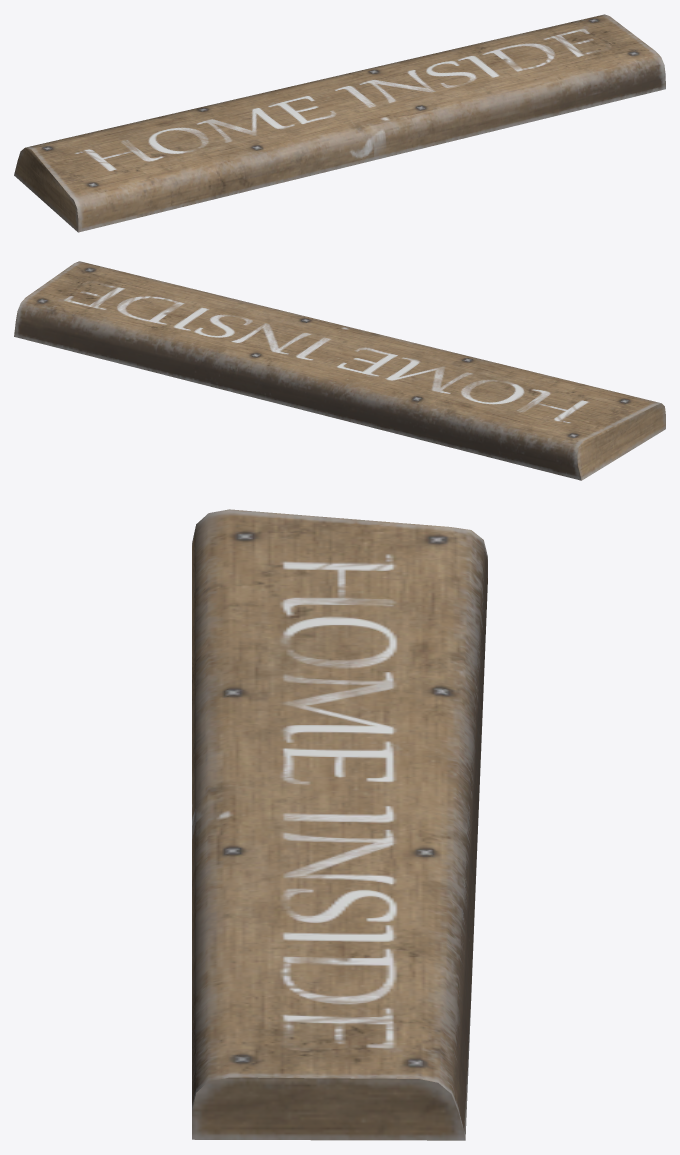
Rendered from SM_Sign03.FBX.
The picture shows the model from 3 angles, top to bottom: view 1: azimuth 30°, elevation 25°; view 2: azimuth 150°, elevation 25°; view 3: azimuth 270°, elevation 25°; orthographic projection. The views are drawn at different scales.
Visible parts, largest first — view 1: SM_Sign03; view 2: SM_Sign03; view 3: SM_Sign03.
Boxes of the visible parts, x1,y1,x2,y2 form: SM_Sign03: [14, 14, 665, 232]; SM_Sign03: [14, 261, 665, 480]; SM_Sign03: [192, 509, 487, 1140].
Bounding box in the file's own units: 60.89 × 13.37 × 3.07.
